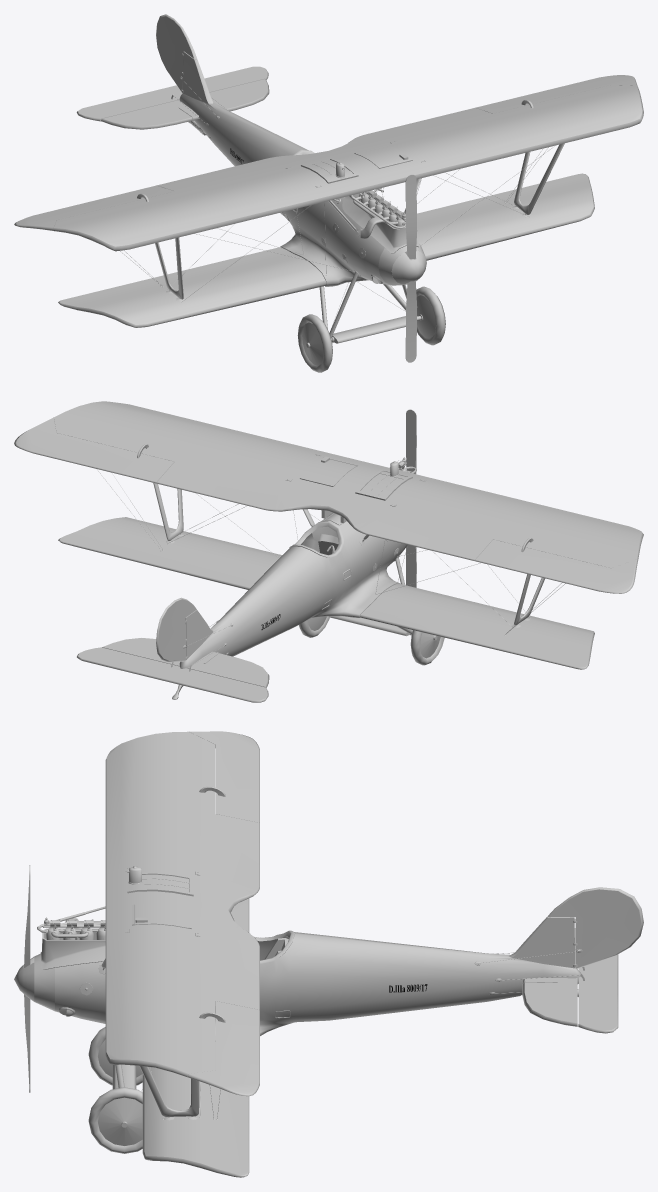
Rendered from pfalzDIII.fbx.
3 views of the same model, one above another, from view 1: azimuth 30°, elevation 25°; view 2: azimuth 150°, elevation 25°; view 3: azimuth 270°, elevation 25° (orthographic). The views are drawn at different scales.
Visible parts, largest first — view 1: canvas, noncanvas, PfalzDIIIPropeller; view 2: canvas, noncanvas, PfalzDIIIPropeller; view 3: canvas, noncanvas, PfalzDIIIPropeller.
Boxes of the visible parts, x1,y1,x2,y2 form: canvas: (14,14,643,365); noncanvas: (120,53,564,372); PfalzDIIIPropeller: (392,174,426,362); canvas: (14,401,643,702); noncanvas: (97,444,565,699); PfalzDIIIPropeller: (406,409,416,587); canvas: (34,731,643,1177); noncanvas: (30,786,584,1153); PfalzDIIIPropeller: (14,865,34,1092).
Size of the model in its own units: 9.31 by 3.05 by 6.86.
